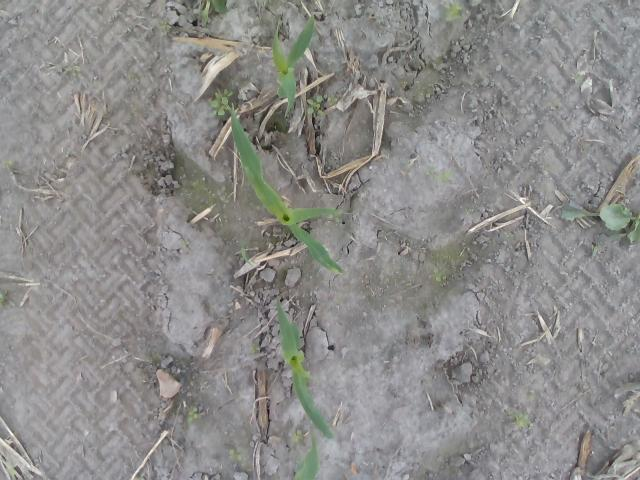Maize: (231, 104, 354, 276), (274, 297, 334, 440), (274, 14, 315, 120), (292, 435, 322, 478)
Weeds: (560, 204, 640, 245), (200, 0, 226, 27), (426, 164, 456, 185), (212, 90, 232, 118), (506, 409, 530, 429), (443, 1, 462, 21), (304, 96, 322, 116), (0, 292, 17, 308), (242, 244, 252, 267), (66, 64, 82, 78), (322, 93, 338, 107), (430, 268, 444, 283), (228, 448, 242, 462), (292, 430, 303, 444), (188, 408, 199, 422), (128, 106, 138, 118), (250, 346, 261, 356), (1, 160, 12, 169)
